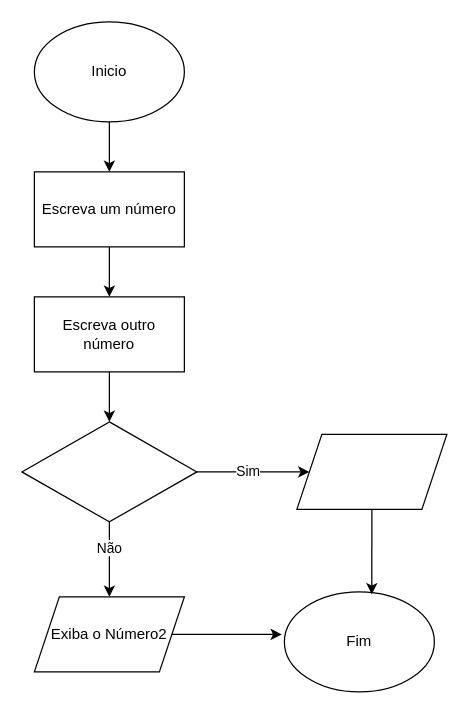
This 469x714 diagram has some shape labels left out. The box of each missing label's shape, as (x1, y1, x2, y2) in pixels:
Exiba o Número1: (296, 433, 447, 509)
O Número1 > Número2?: (21, 421, 197, 522)
